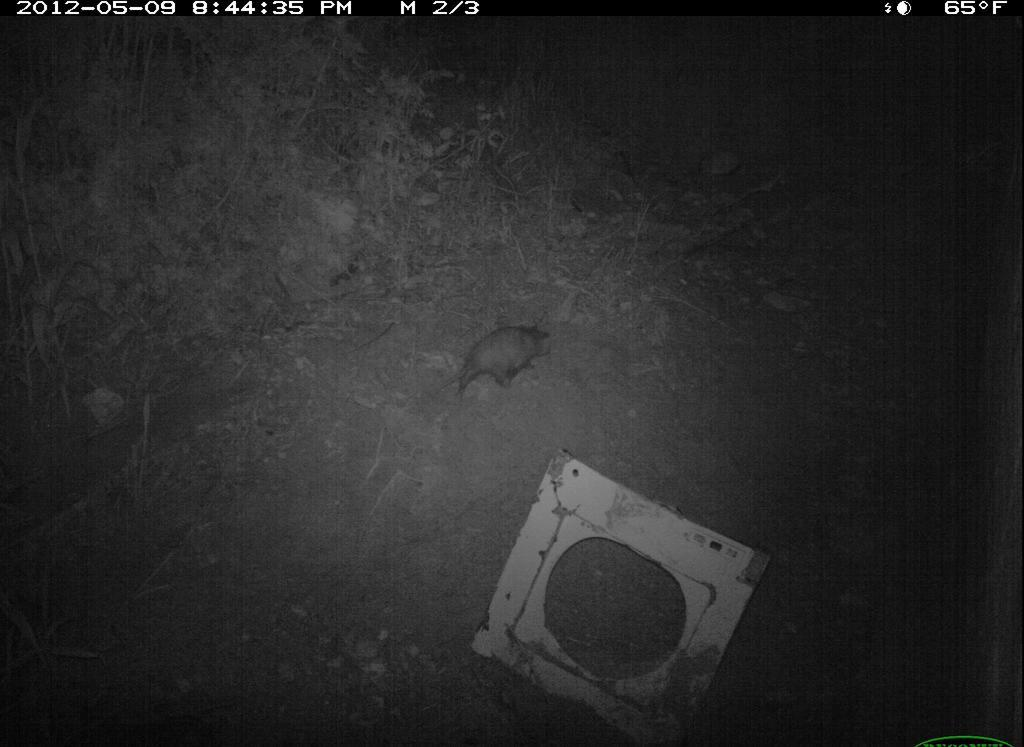opossum: (414, 306, 573, 409)
